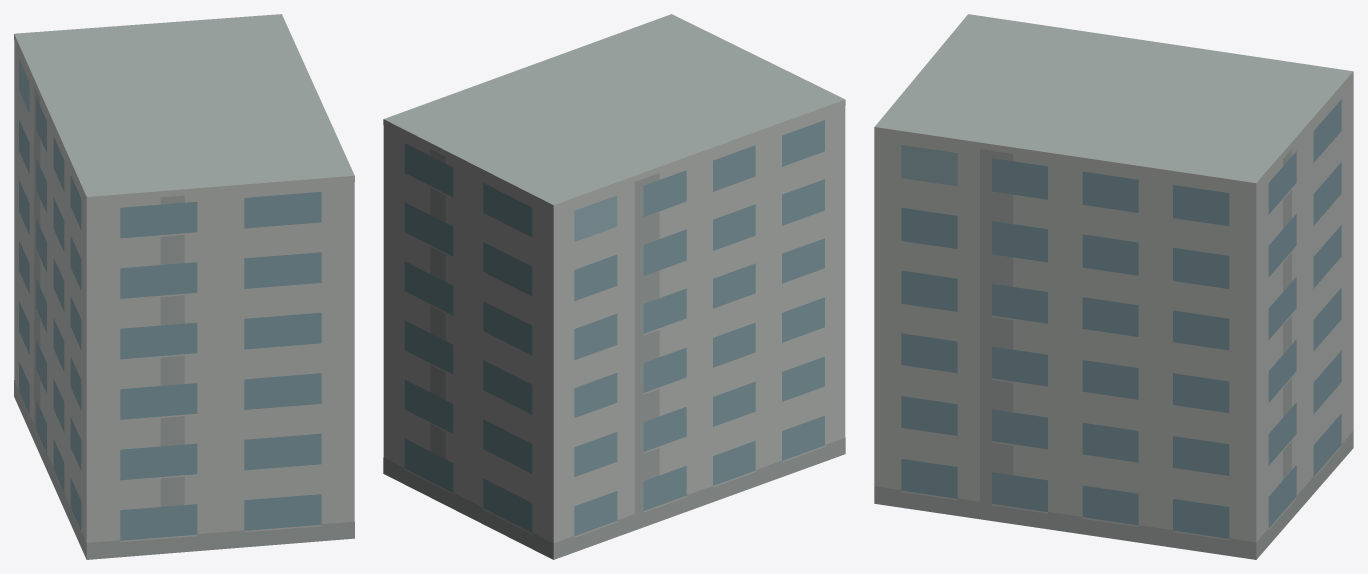
File: survey-upis-32888436.glb
The picture shows the model from 3 angles, left to right: view 1: azimuth 30°, elevation 25°; view 2: azimuth 150°, elevation 25°; view 3: azimuth 270°, elevation 25°; orthographic projection. The views are drawn at different scales.
Visible parts, largest first — view 1: survey-upis-32888436.tmp; view 2: survey-upis-32888436.tmp; view 3: survey-upis-32888436.tmp.
Boxes of the visible parts, left/top/right/bottom form: survey-upis-32888436.tmp: left=14, top=14, right=354, bottom=559; survey-upis-32888436.tmp: left=383, top=14, right=845, bottom=559; survey-upis-32888436.tmp: left=874, top=14, right=1353, bottom=559.
Bounding box in the file's own units: 13.64 × 14.15 × 16.32.
